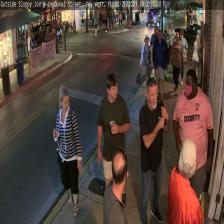person: (173, 69, 213, 224), (97, 73, 131, 224), (138, 77, 168, 224), (53, 85, 82, 215), (166, 139, 204, 223), (101, 146, 128, 223)
